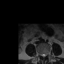CCS_stenosis: (43, 51, 44, 59)
LFS_normal: (46, 50, 48, 56)
LLS_normal: (44, 51, 46, 57)
RFS_normal: (39, 51, 41, 57)
RLS_normal: (41, 51, 43, 57)
